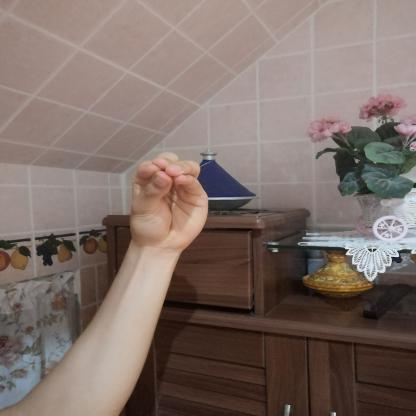HA: (114, 141, 227, 265)
